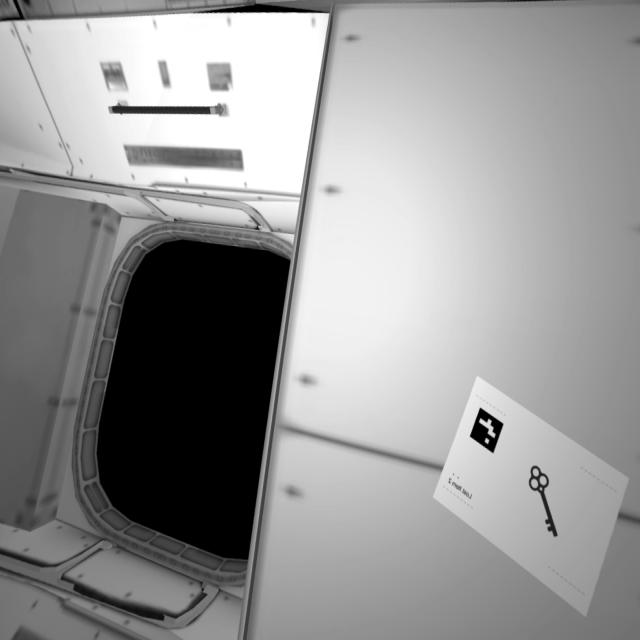key: (524, 457, 571, 558)
